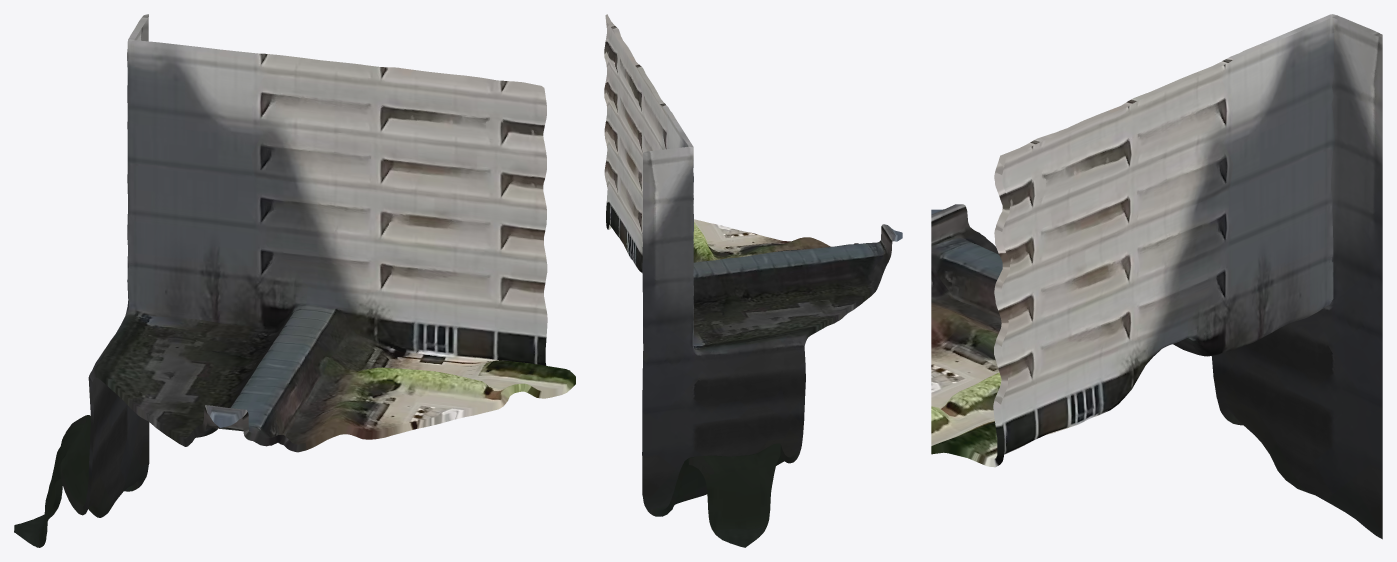
Rendered from z20-167784-405230-h0-yup-uvflip-v3-world.glb.
The picture shows the model from 3 angles, left to right: view 1: azimuth 30°, elevation 25°; view 2: azimuth 150°, elevation 25°; view 3: azimuth 270°, elevation 25°; orthographic projection. The views are drawn at different scales.
Size of the model in its own units: 30.2 by 39.4 by 30.32.
Materials: 1 (1 with a texture image).
